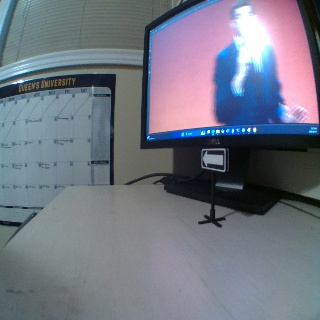sign_oneway_left: (201, 148, 228, 172)
